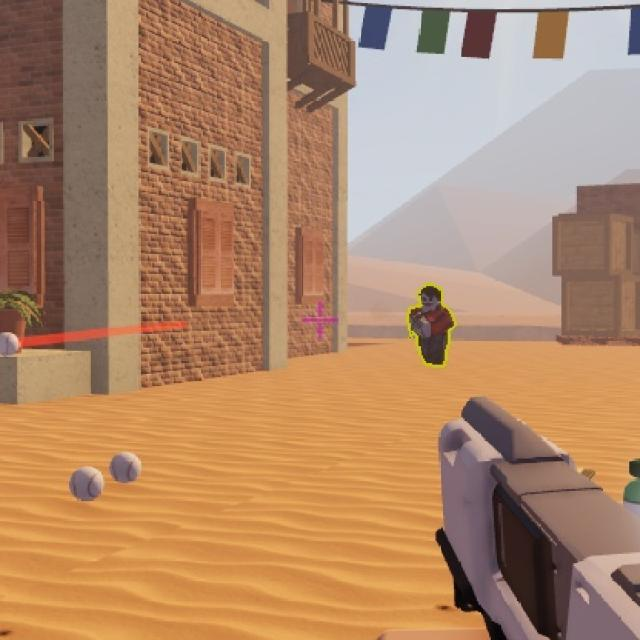player: (409, 285, 455, 370)
